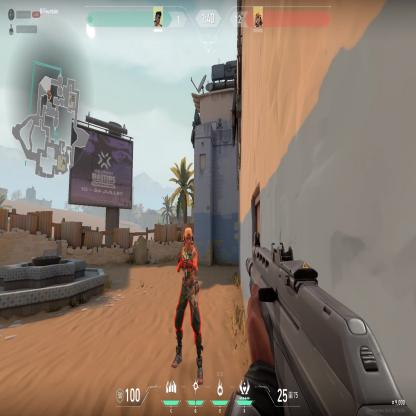enemy: (170, 223, 204, 387)
